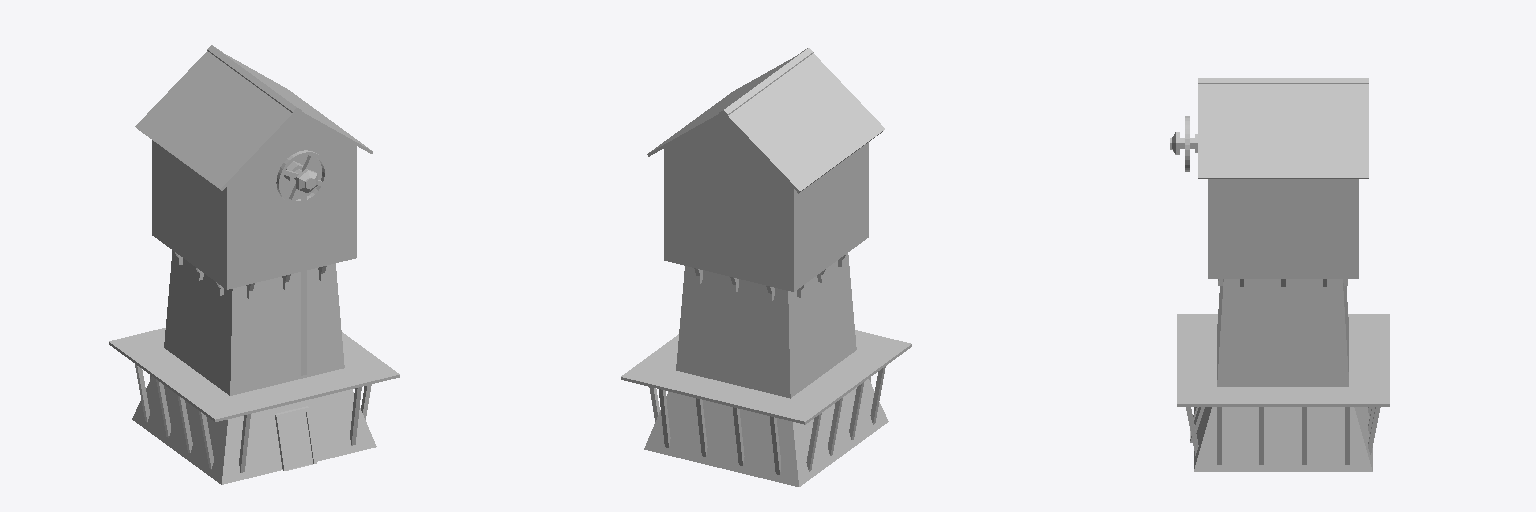
File: windmill_base.obj
3 views of the same model, side by side, from view 1: azimuth 30°, elevation 25°; view 2: azimuth 150°, elevation 25°; view 3: azimuth 270°, elevation 25° (orthographic).
Visible parts, largest first — view 1: Wind_Mill_Base_Material.001; view 2: Wind_Mill_Base_Material.001; view 3: Wind_Mill_Base_Material.001.
Part boxes in pixels (x1,y1,x2,y2): Wind_Mill_Base_Material.001: (109, 45, 399, 484); Wind_Mill_Base_Material.001: (621, 48, 911, 486); Wind_Mill_Base_Material.001: (1170, 78, 1389, 471).
Bounding box in the file's own units: 3.63 × 6.7 × 3.74.